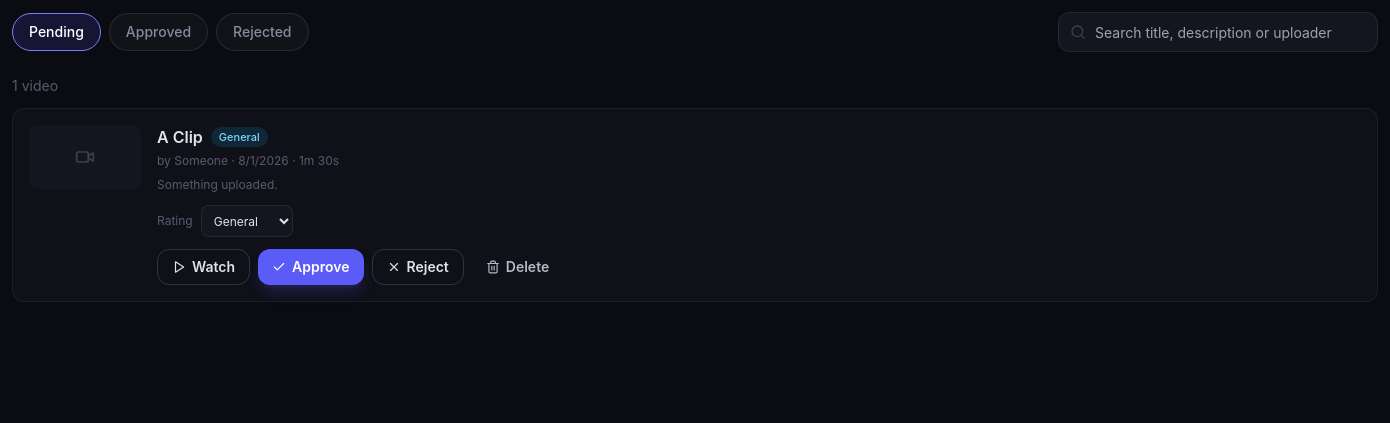
Test case: ModerationPanel › actions by status › will not submit a rejection without a reason
Expected: the heading "A Clip" is shown, 157,125 -> 203,149
Click the button "Reject" at coordinates (418, 267), box 372,249 -> 464,285
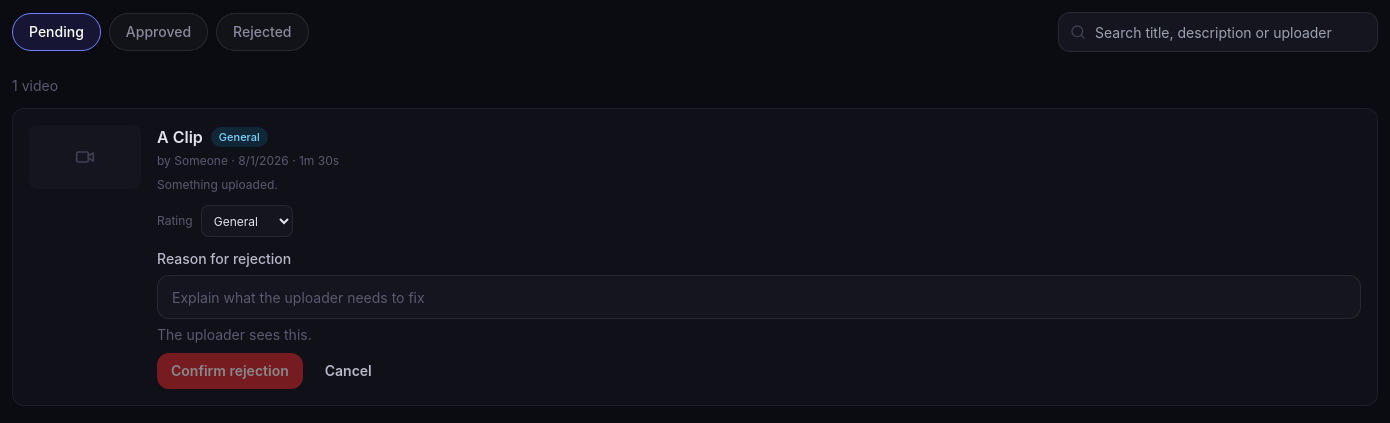
Expected: the button "Confirm rejection" is disabled, 157,353 -> 303,389
